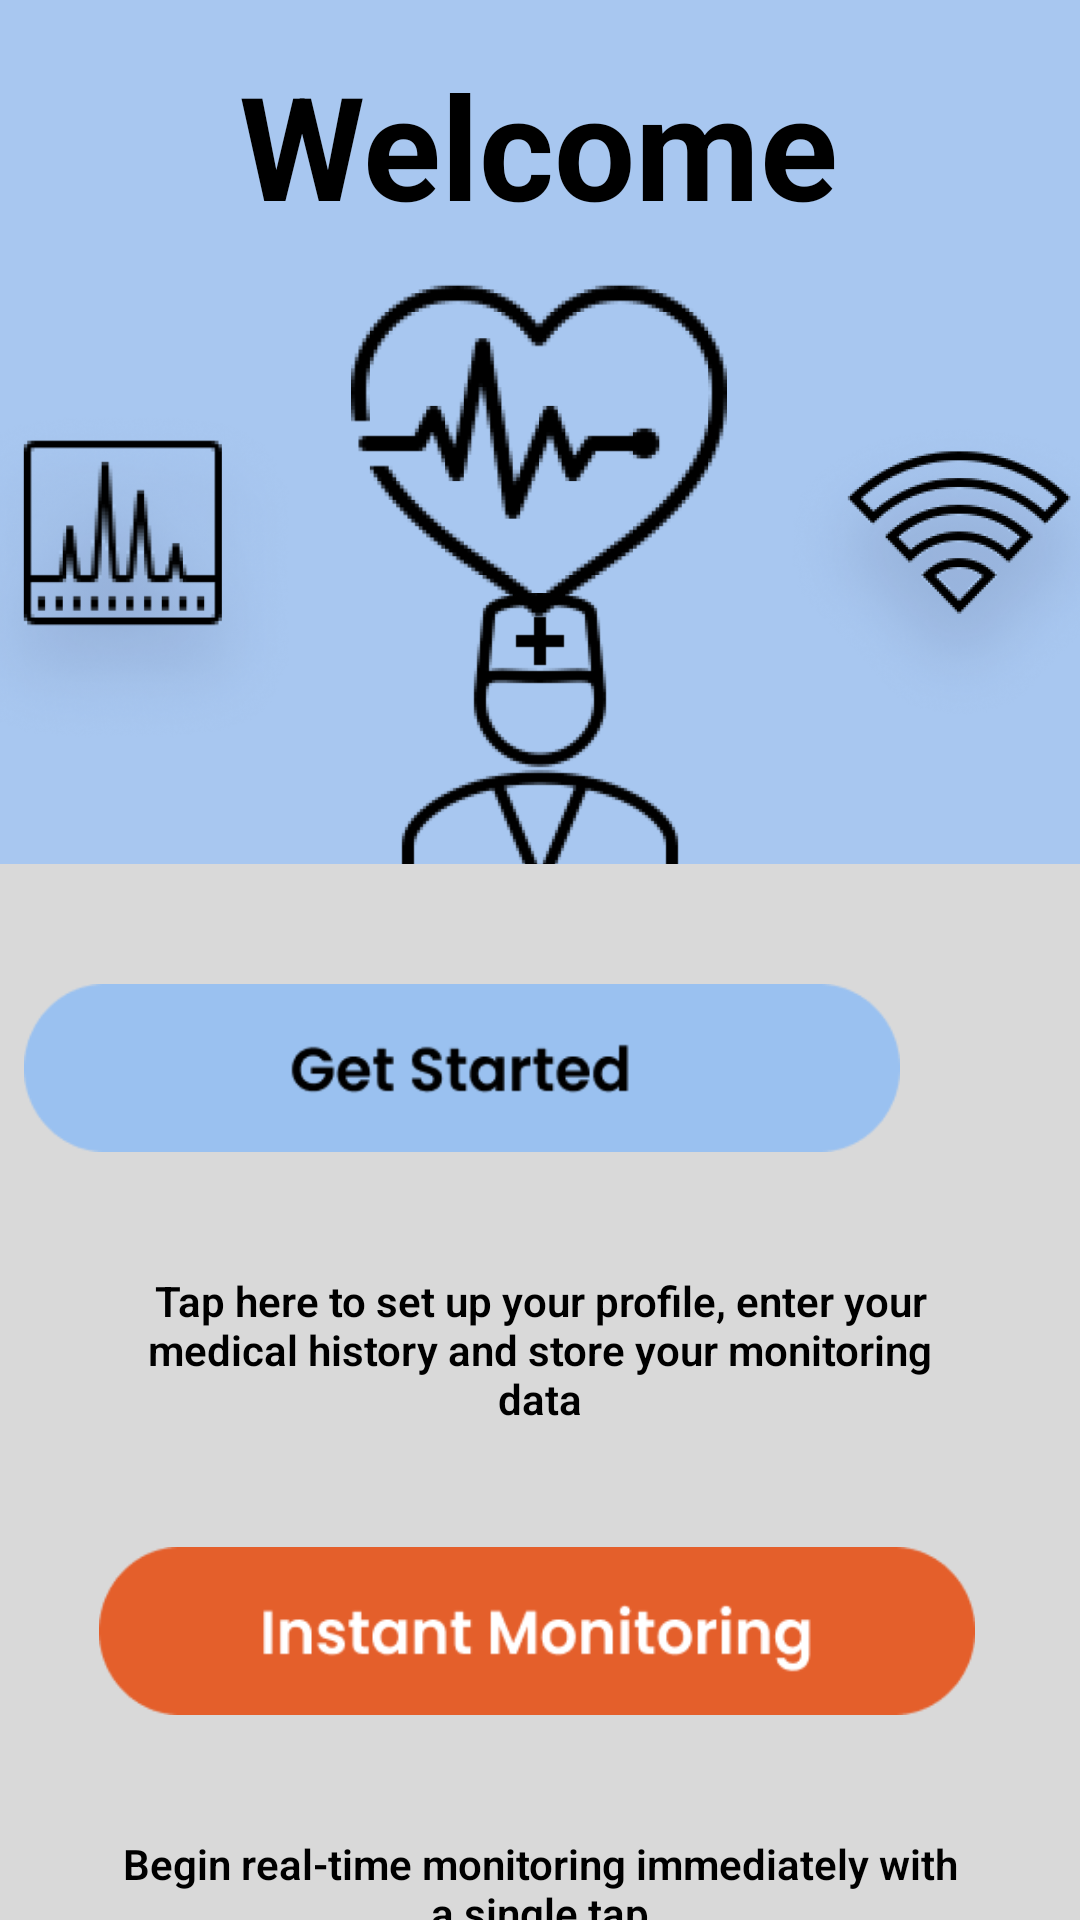

Point at icon controls on the screen. Image size 1080px x 1920px, points as (x,y).
ECG monitoring: (122,533)
Medical professional: (540,728)
Wireless connectivity: (959,532)
